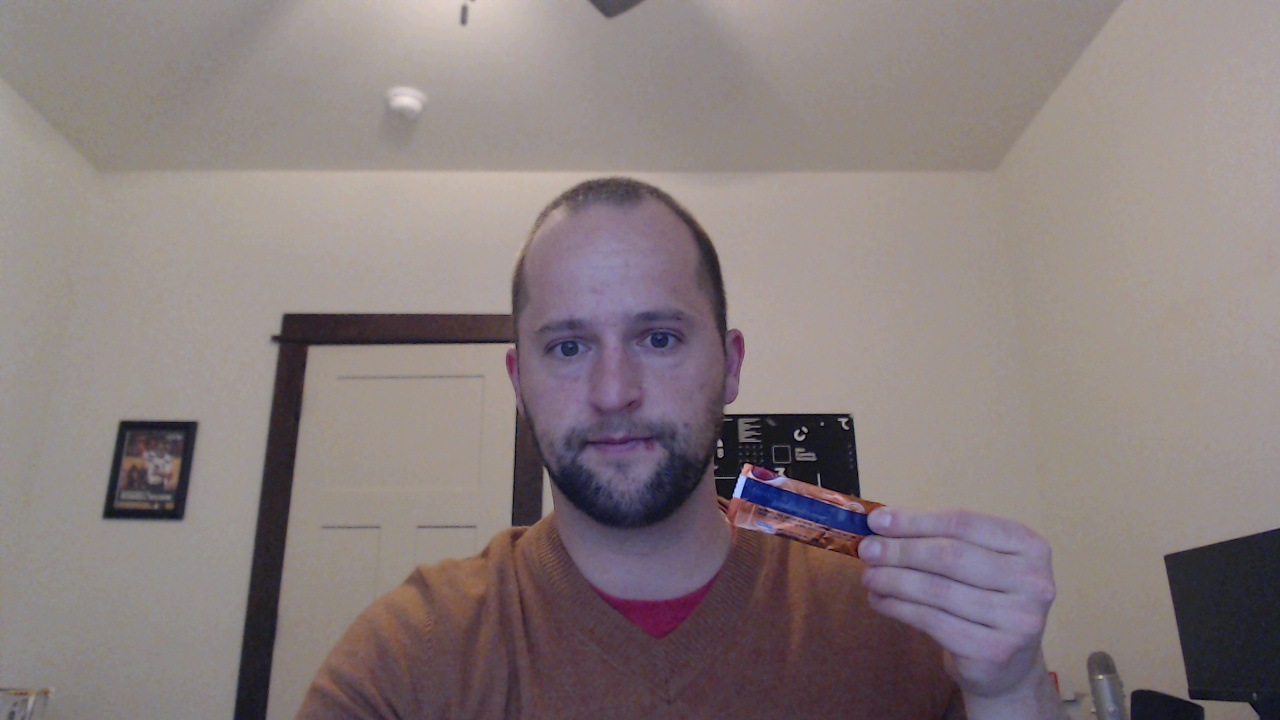airheads: (722, 447, 922, 575)
